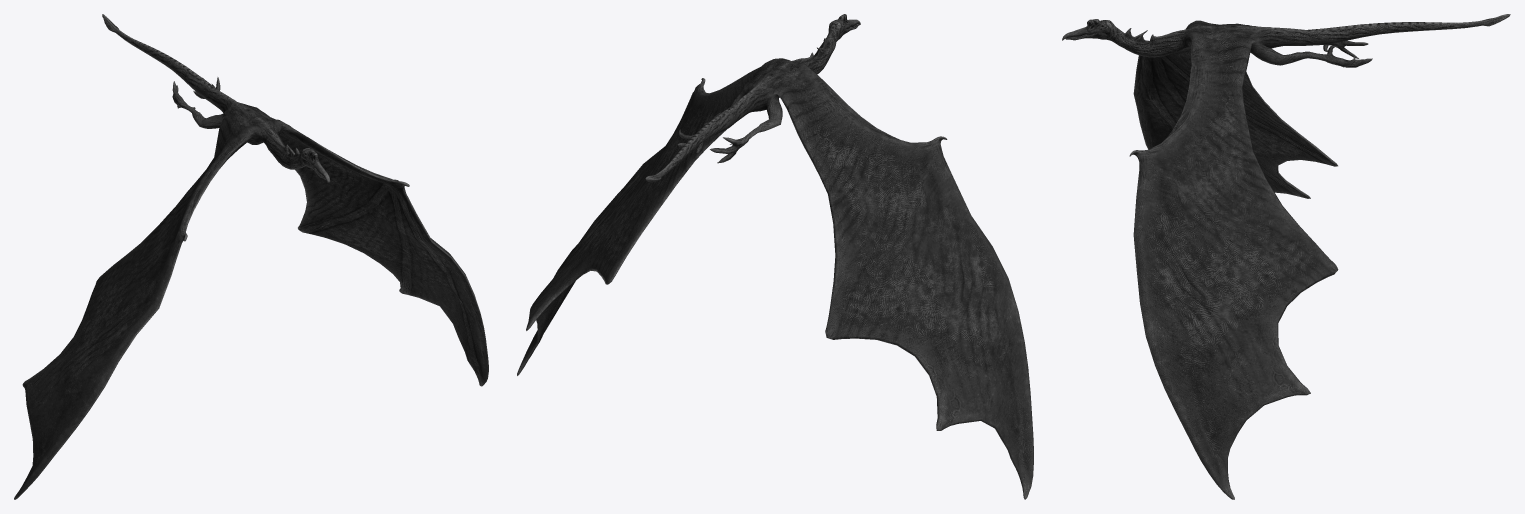
File: Fellbeast_Animate_Flying_27.obj
The picture shows the model from 3 angles, left to right: view 1: azimuth 30°, elevation 25°; view 2: azimuth 150°, elevation 25°; view 3: azimuth 270°, elevation 25°; orthographic projection. The views are drawn at different scales.
Visible parts, largest first — view 1: Fellbeast; view 2: Fellbeast; view 3: Fellbeast.
Boxes of the visible parts, bbox=[...] form: Fellbeast: bbox=[14, 14, 488, 499]; Fellbeast: bbox=[517, 14, 1033, 499]; Fellbeast: bbox=[1062, 14, 1510, 499].
Size of the model in its own units: 5.61 by 3.9 by 4.4.
